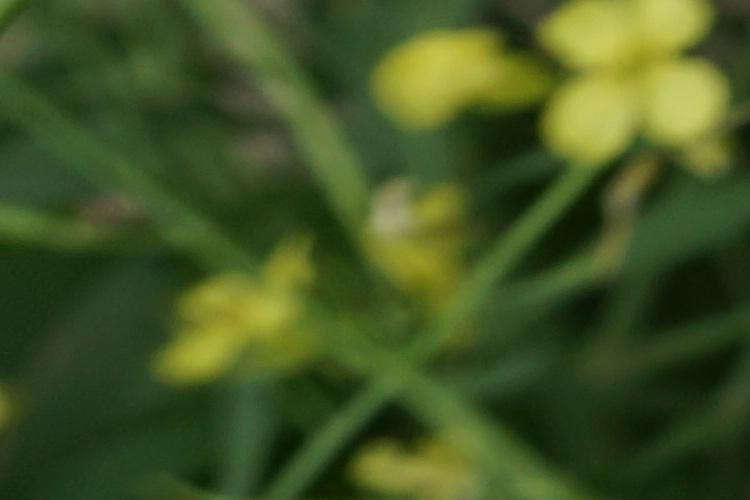yellow: (112, 237, 342, 397), (546, 9, 728, 157), (393, 30, 533, 116)
